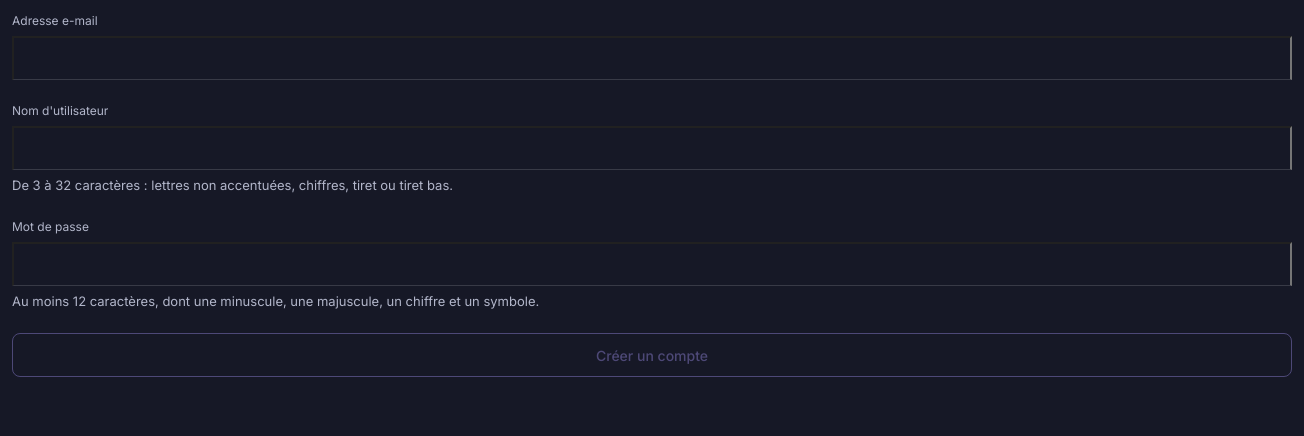
Test: <SignUpForm /> › affiche le 409 du serveur sur une adresse déjà prise
Type "a@x.fr" into the field with test id "signup-email" at coordinates (652, 58), box [12,36,1292,80]
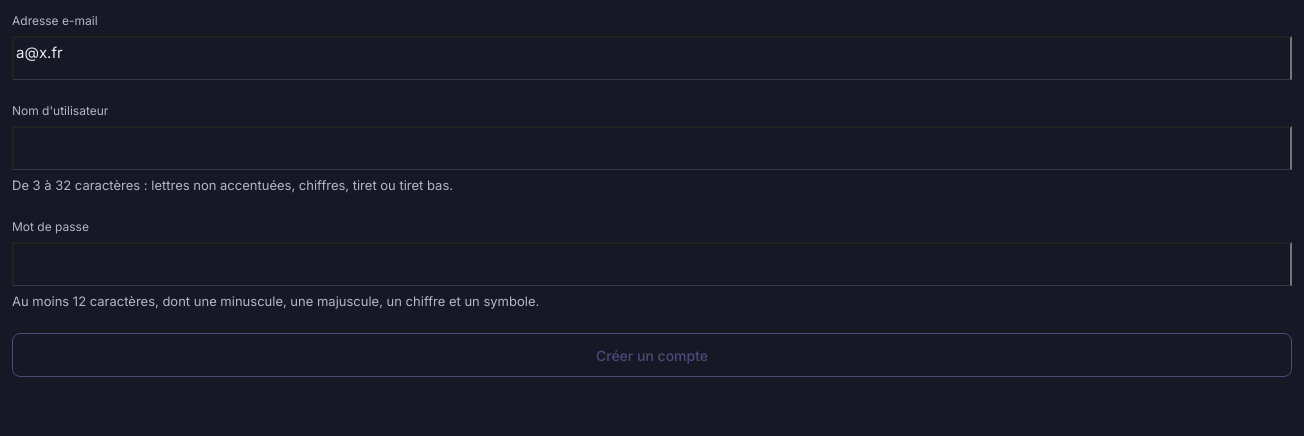
Type "bob" into the field with test id "signup-username" at coordinates (652, 148), box [12,126,1292,170]
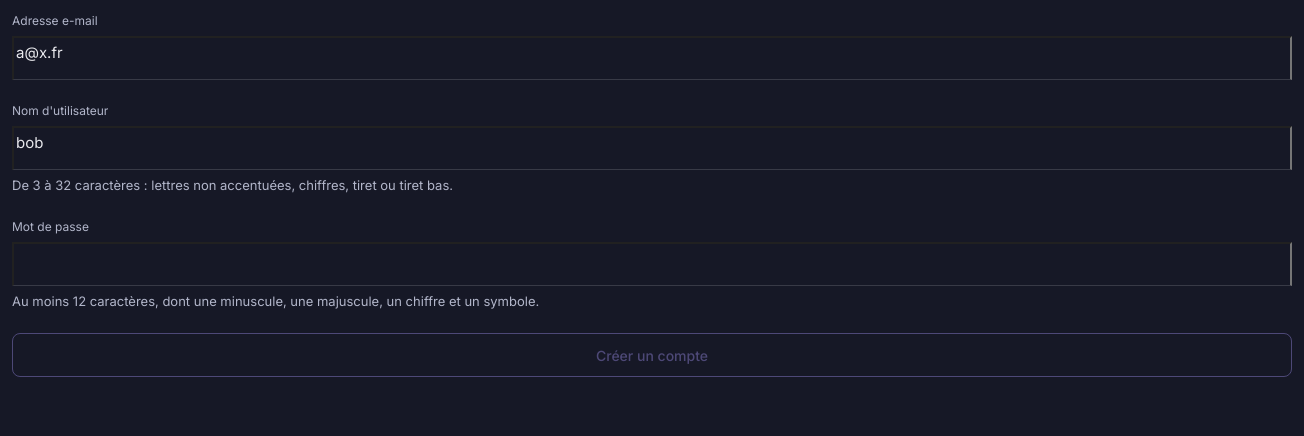
Type "Sup3r$ecret!" into the password field with test id "signup-password" at coordinates (652, 264), box [12,242,1292,286]
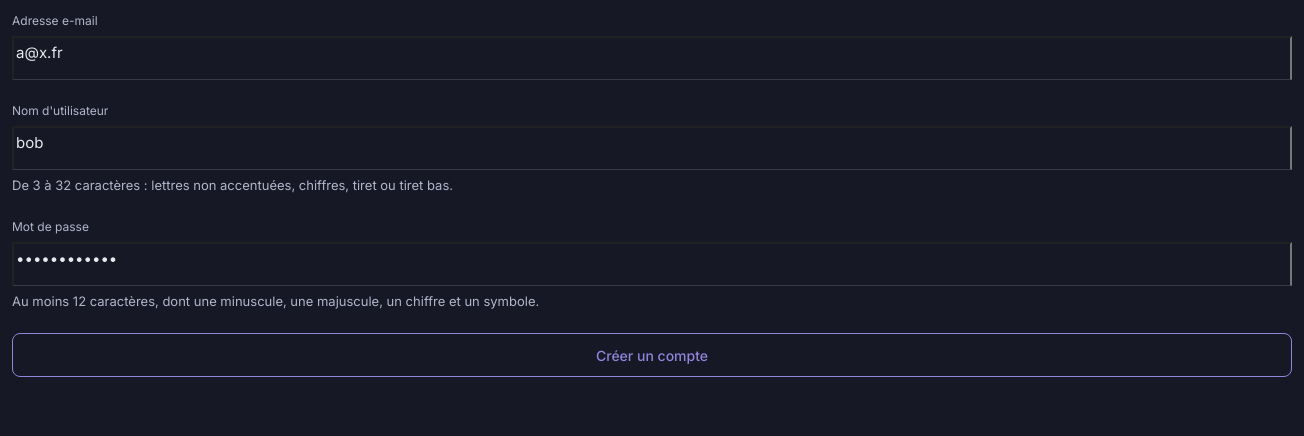
Click the button with test id "signup-submit" at coordinates (652, 355), box [12,333,1292,377]
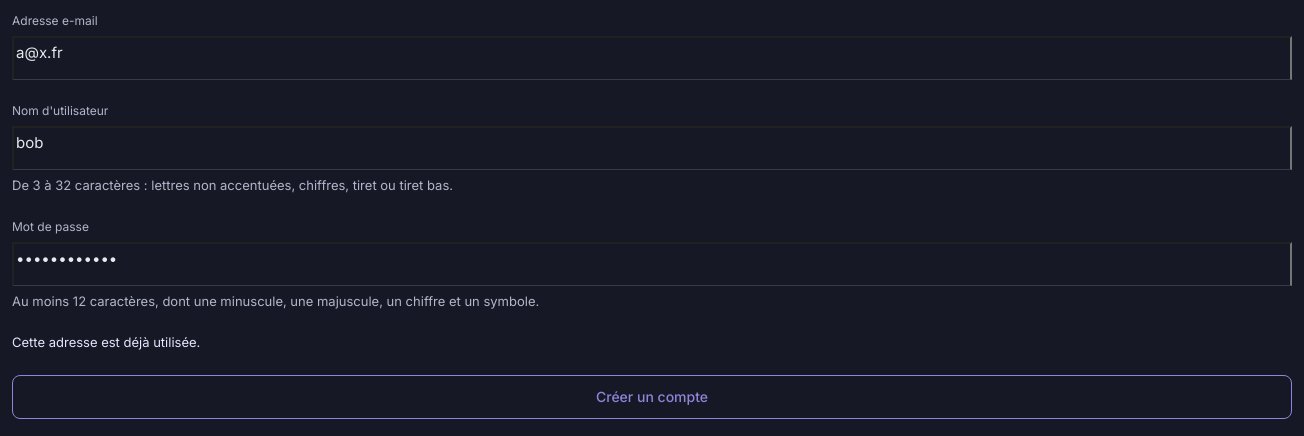
Now the message with test id "signup-error" reads "Cette adresse est déjà utilisée.", box [12,334,200,350]
